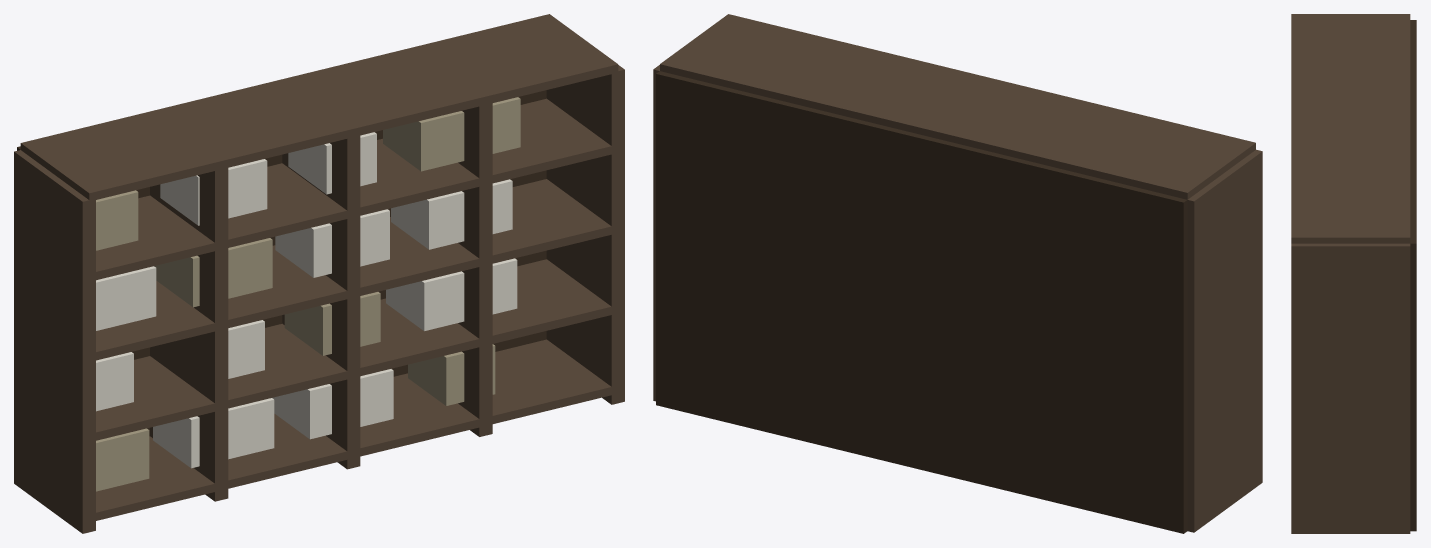
Rendered from s2_archive_shelf.glb.
3 renders of one model, left to right at view 1: azimuth 30°, elevation 25°; view 2: azimuth 150°, elevation 25°; view 3: azimuth 270°, elevation 25°, orthographic. The views are drawn at different scales.
Visible parts, largest first — view 1: s2_archive_shelf; view 2: s2_archive_shelf; view 3: s2_archive_shelf.
Boxes of the visible parts, x1=… form: s2_archive_shelf: x1=14, y1=14, x2=624, y2=533; s2_archive_shelf: x1=653, y1=14, x2=1262, y2=533; s2_archive_shelf: x1=1291, y1=14, x2=1416, y2=533.
Size of the model in its own units: 4.1 by 2.45 by 0.95.
